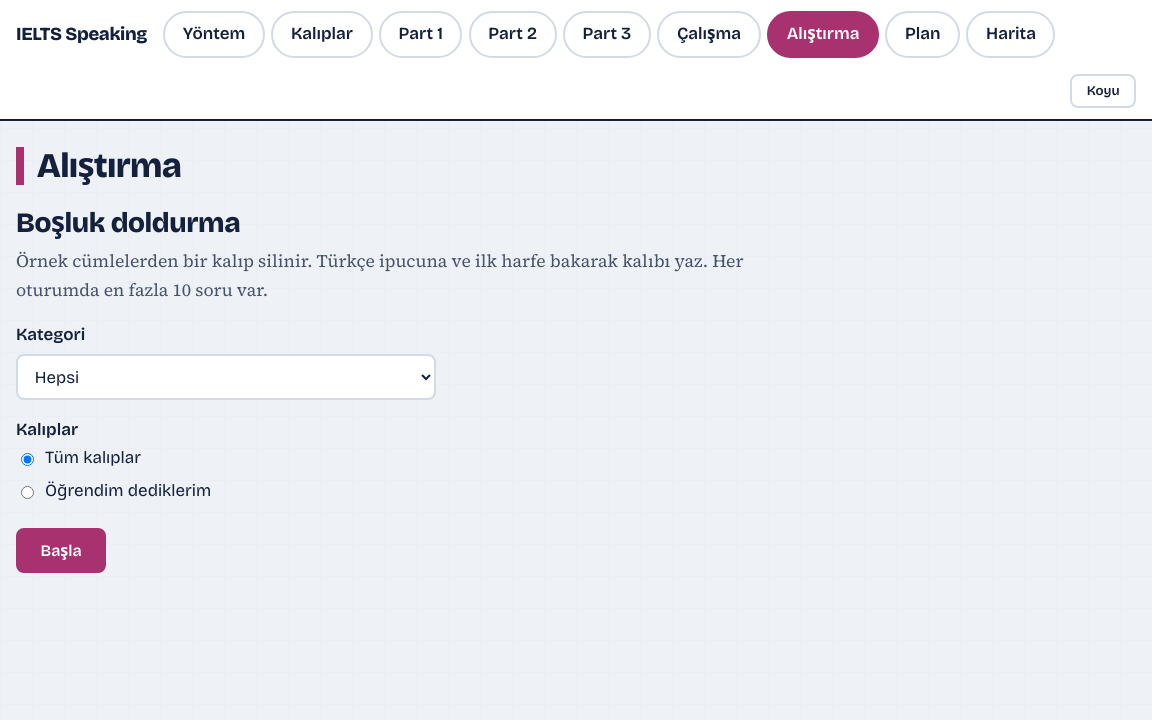
Scenario: practice page › starts a 10 question session for all phrases
What coordinates should you click on to do the following:
click the button "Başla"
I would click on:
 (61, 550)
Its box is top-left (16, 528), bottom-right (106, 573).
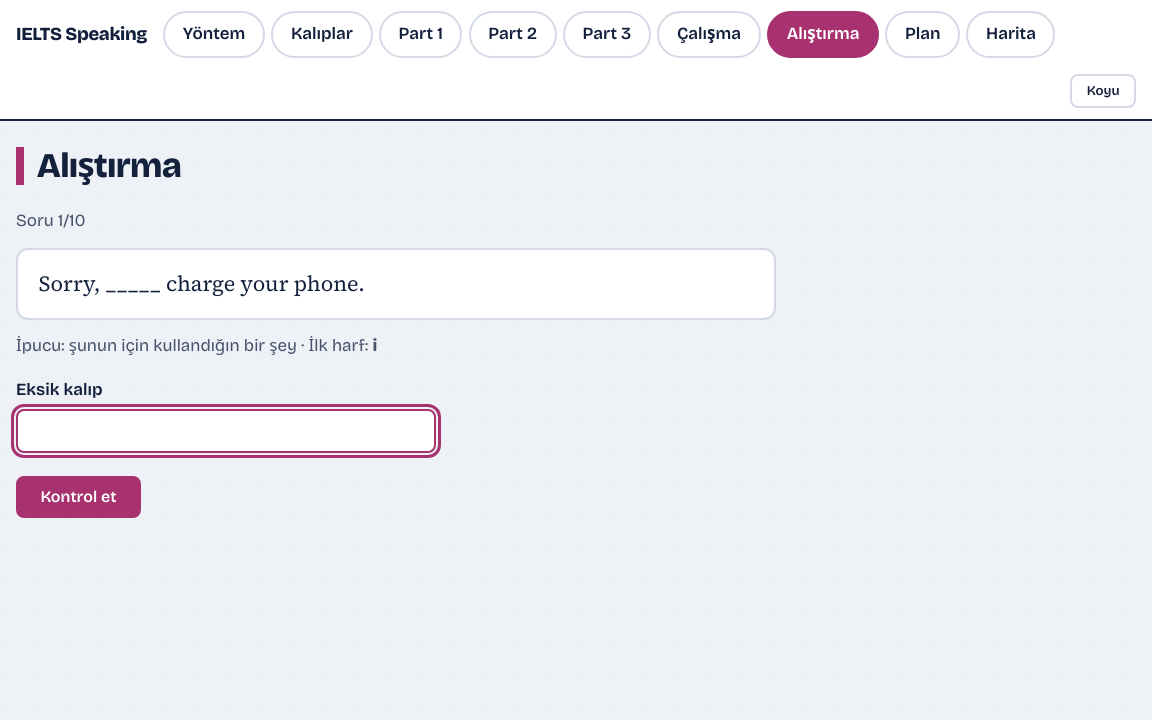
Check: the text "Soru 1/10" is shown, box top-left (16, 210), bottom-right (86, 231)
